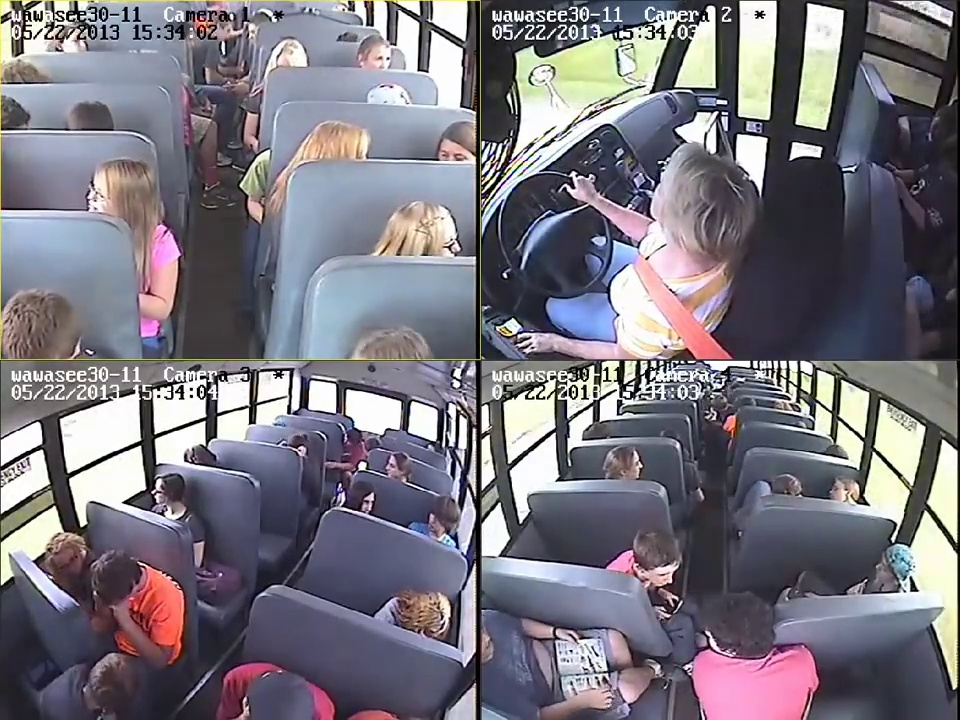face: (412, 214, 463, 259), (87, 174, 121, 212), (650, 557, 677, 586), (361, 45, 394, 67), (440, 138, 471, 161), (355, 482, 377, 513), (830, 480, 853, 505), (149, 478, 168, 504), (626, 453, 645, 478), (386, 456, 405, 475)
